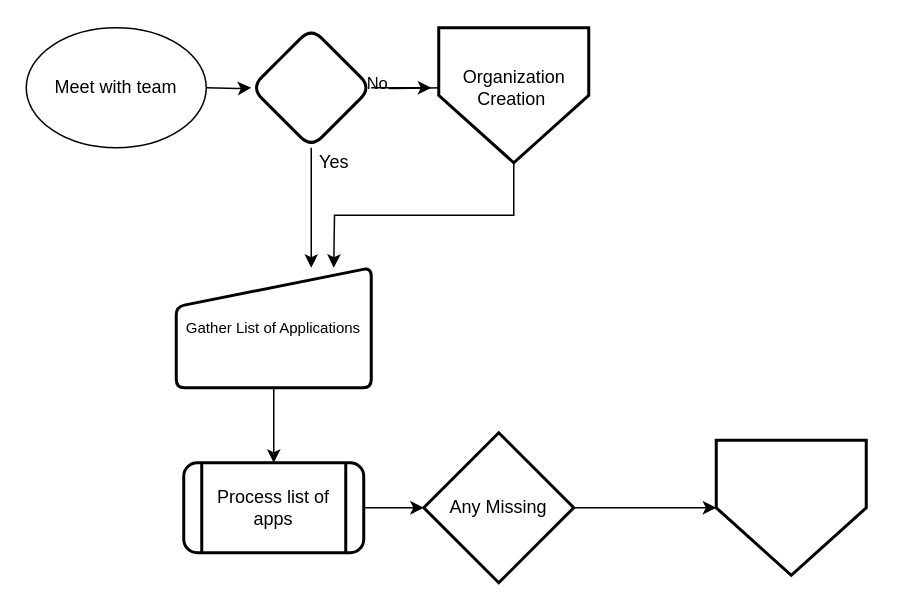
The diagram is 900 pixels wide and 609 high, and some of its shapes have lost their labels. The centre of each missing label's shape, as x and y in pixels:
"Create Application" belongs at pixel 790 507.
"Org Exist" belongs at pixel 310 87.
